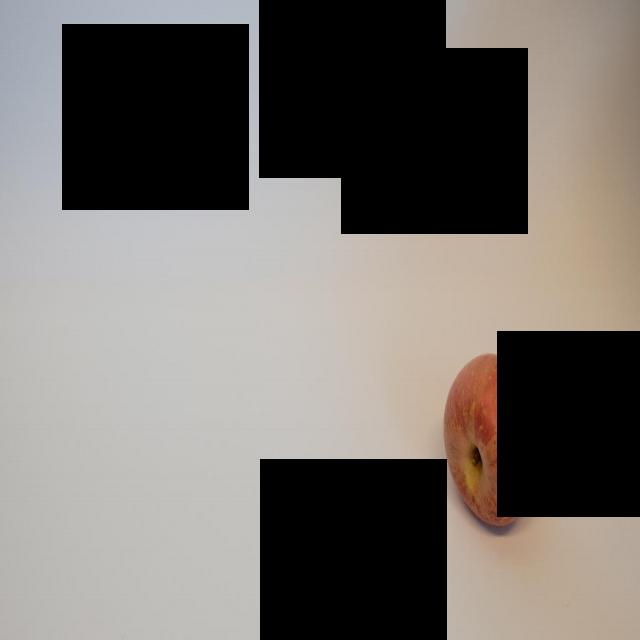apple: (444, 350, 546, 539)
